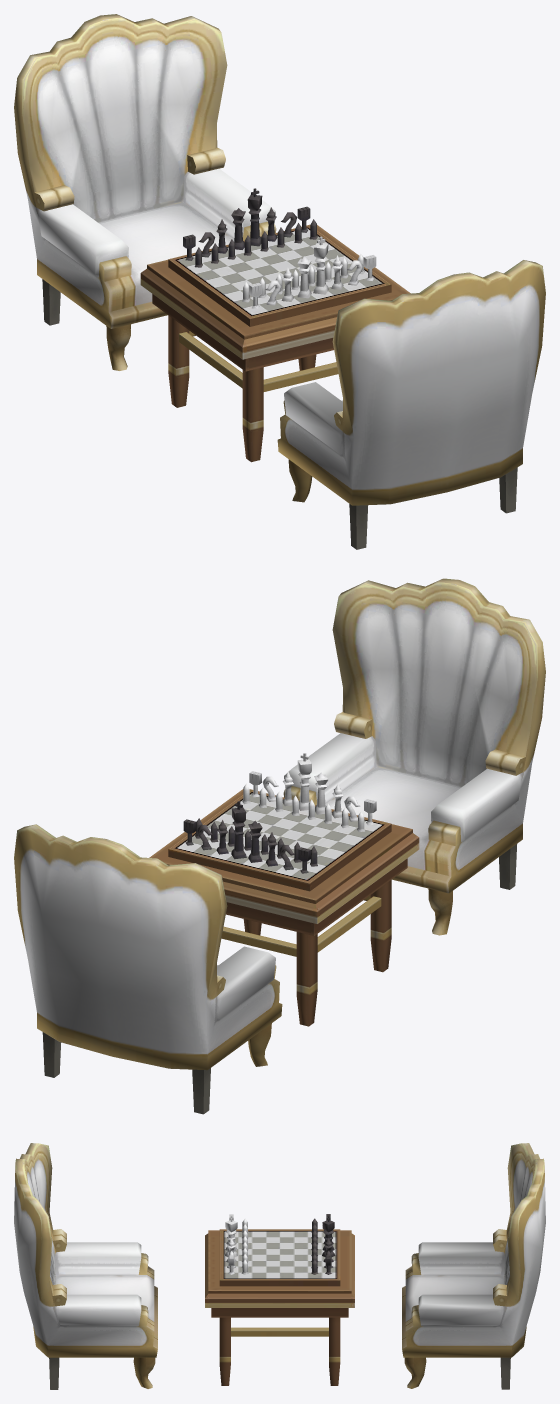
File: my_teaparty_01_table_02.glb
3 renders of one model, top to bottom at view 1: azimuth 30°, elevation 25°; view 2: azimuth 150°, elevation 25°; view 3: azimuth 270°, elevation 25°, orthographic. The views are drawn at different scales.
Parts seen in each view (by area): view 1: my_teaparty_01_table_02; view 2: my_teaparty_01_table_02; view 3: my_teaparty_01_table_02.
Boxes of the visible parts, x1,y1,x2,y2 form: my_teaparty_01_table_02: (14, 14, 545, 549); my_teaparty_01_table_02: (14, 578, 545, 1114); my_teaparty_01_table_02: (14, 1143, 545, 1389).
Bounding box in the file's own units: 0.00592 × 0.00731 × 0.0178.
Materials: 1 (1 with a texture image).
